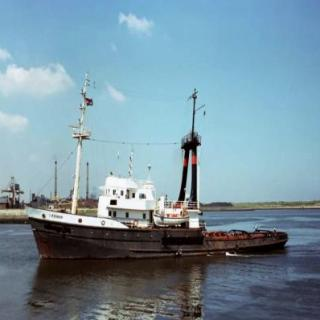Tug Boat: (19, 66, 282, 260)
